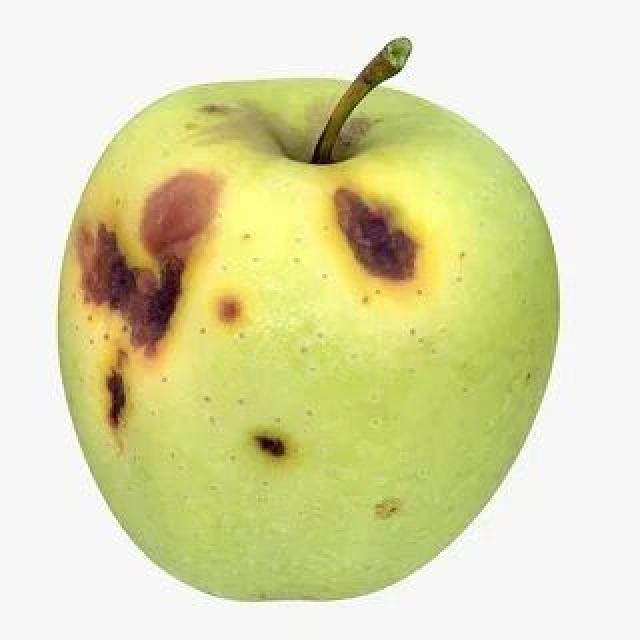Rotten: (57, 85, 555, 563)
